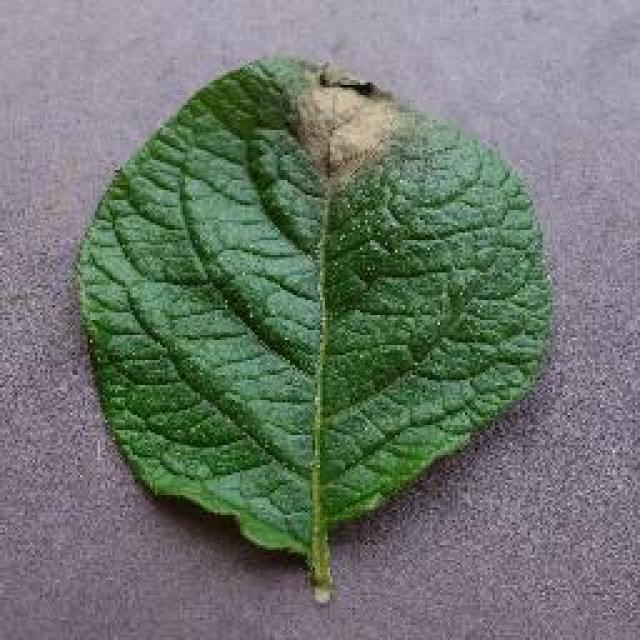late_blight: (70, 50, 558, 592)
